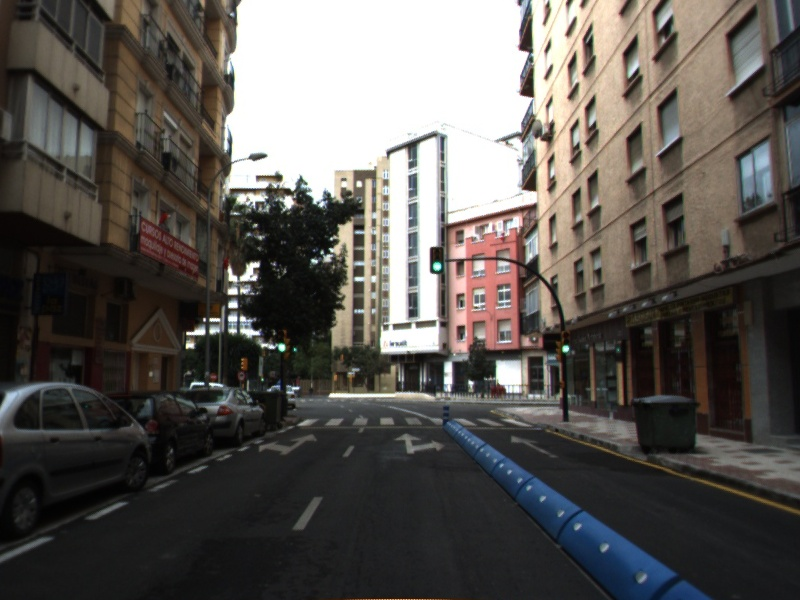STRAIGHT: (508, 433, 562, 460)
STRAIGHT_LEFT: (256, 431, 320, 457)
STRAIGHT_RIGHT: (392, 431, 447, 456)
